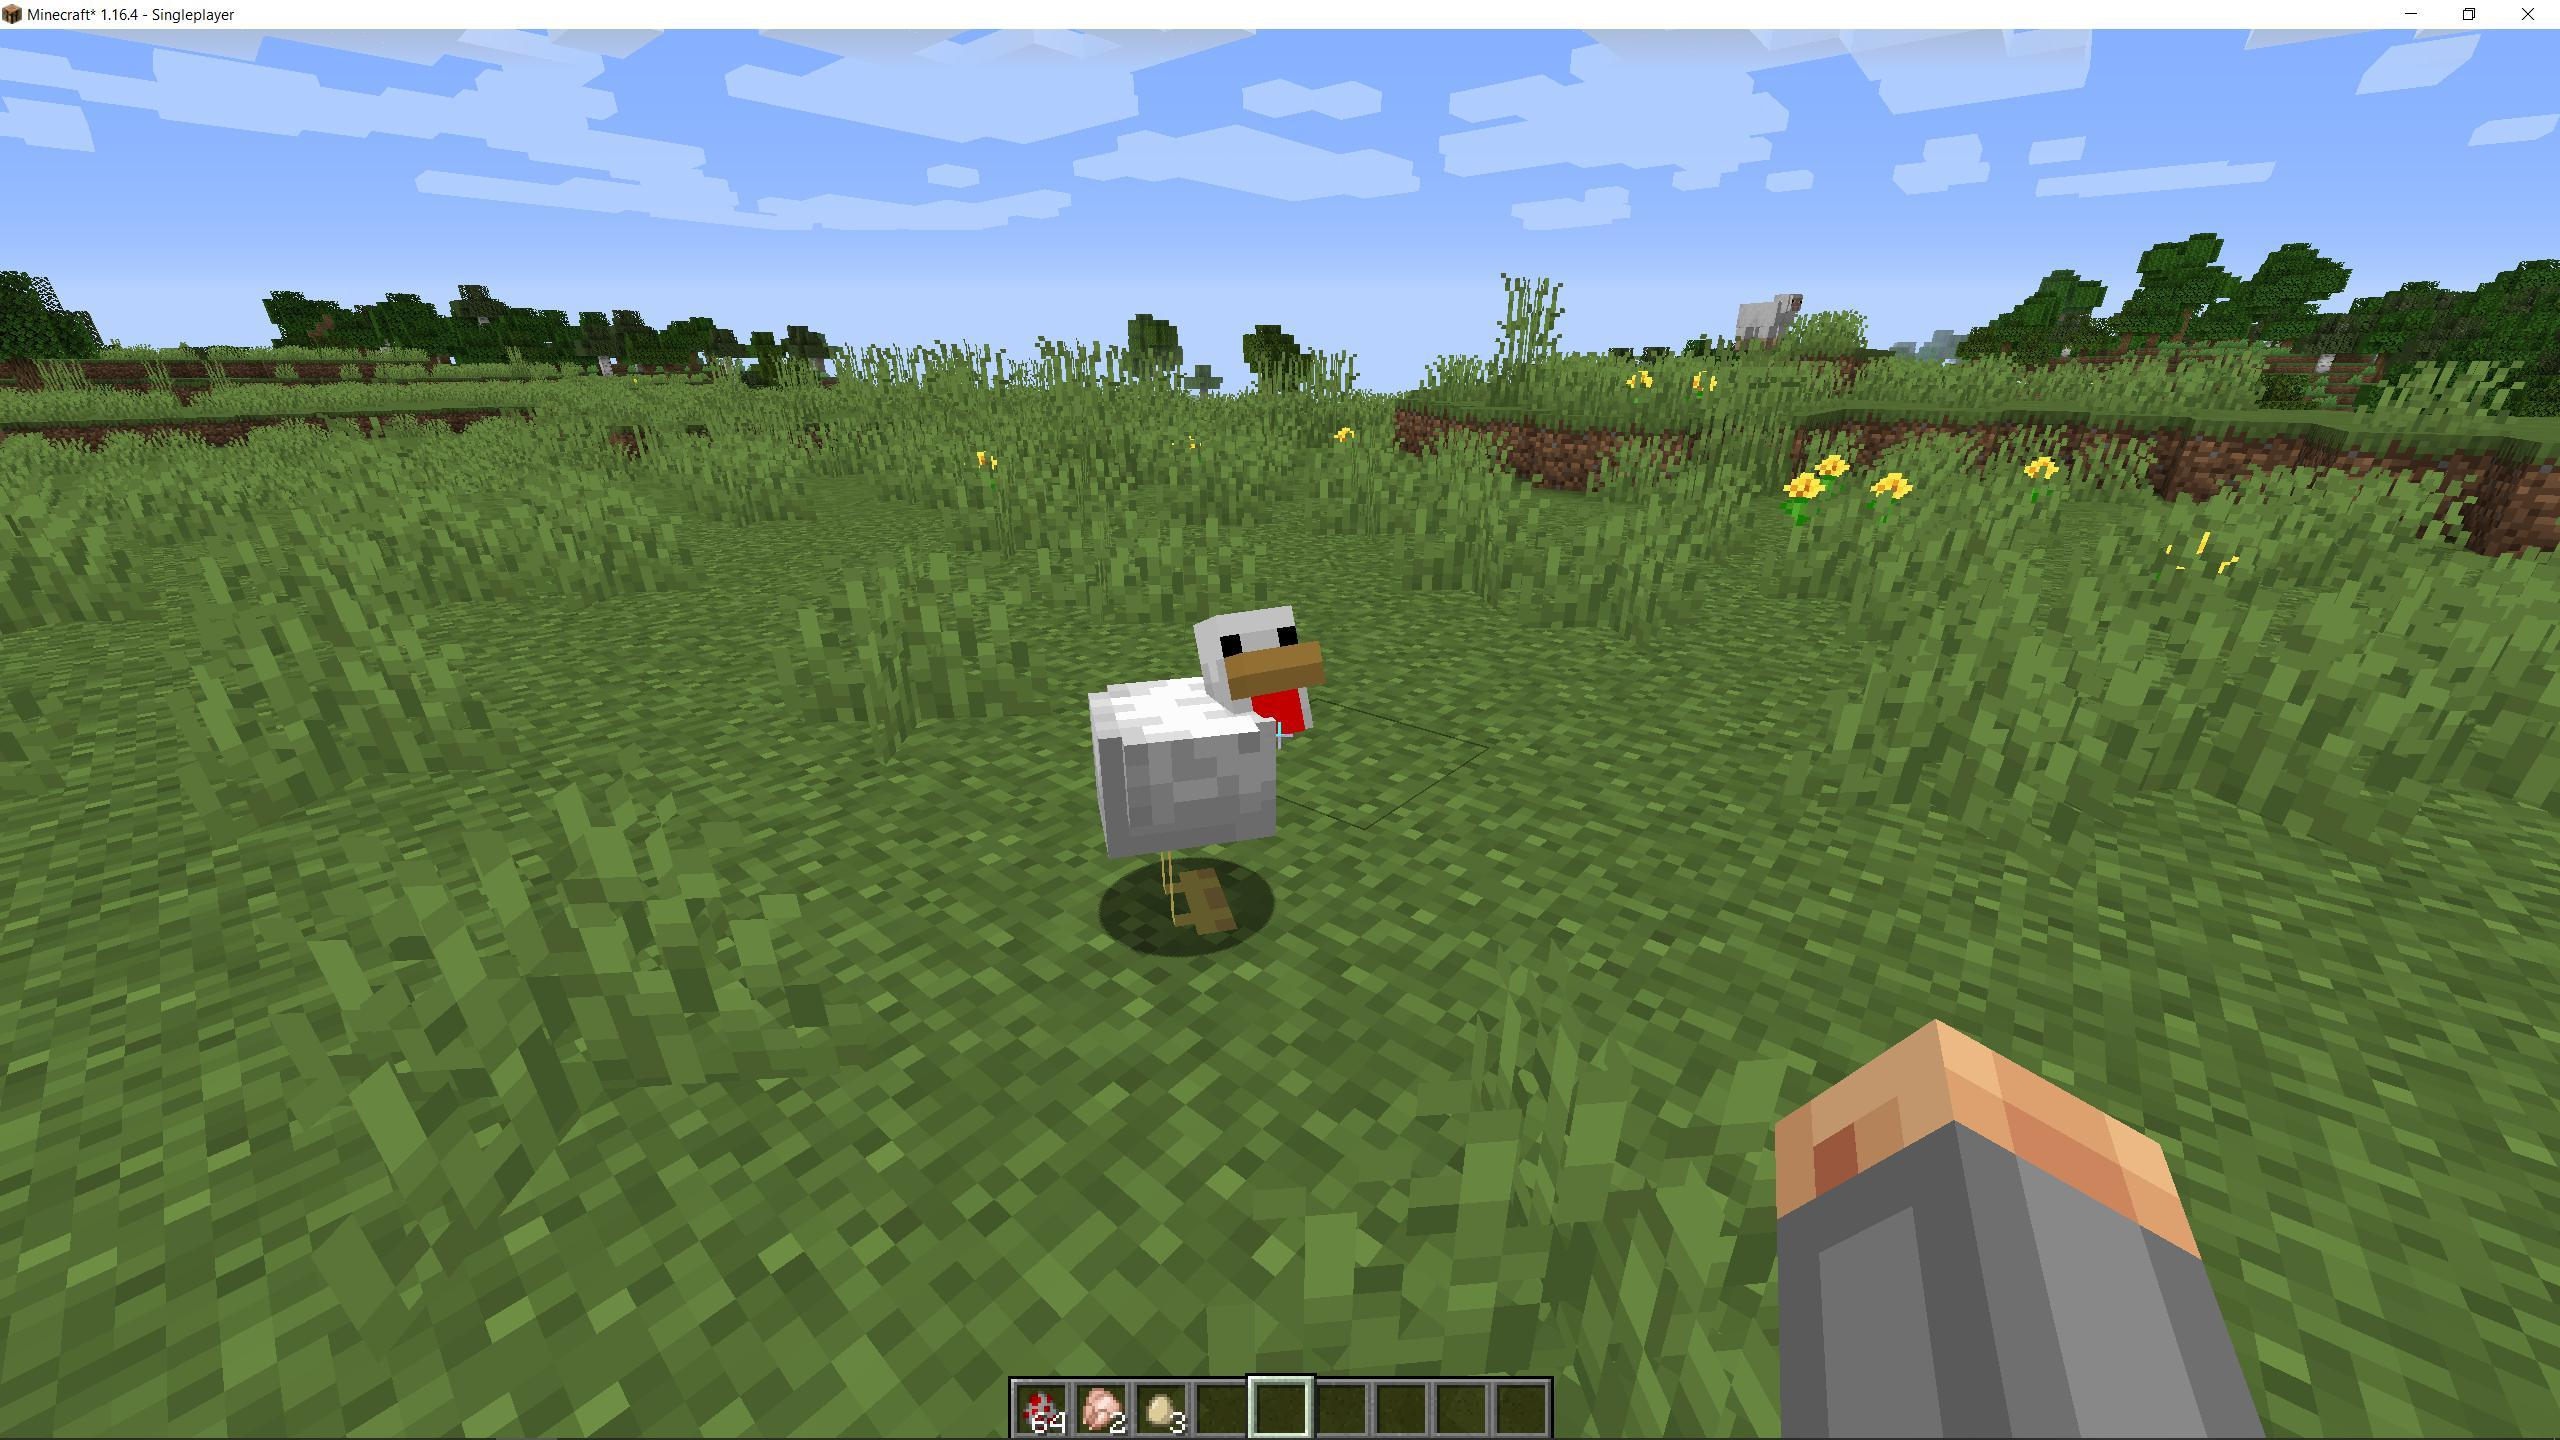chicken: (1071, 596, 1338, 964)
